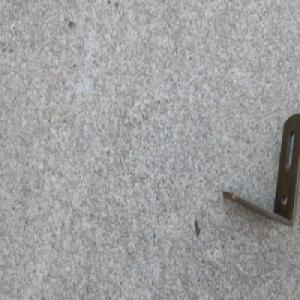MetalPart: (222, 111, 300, 227)
